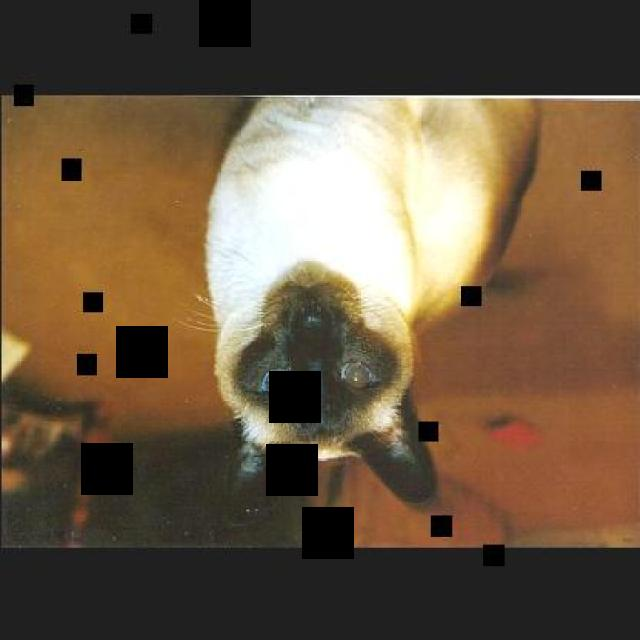unauthorized: (174, 94, 541, 503)
